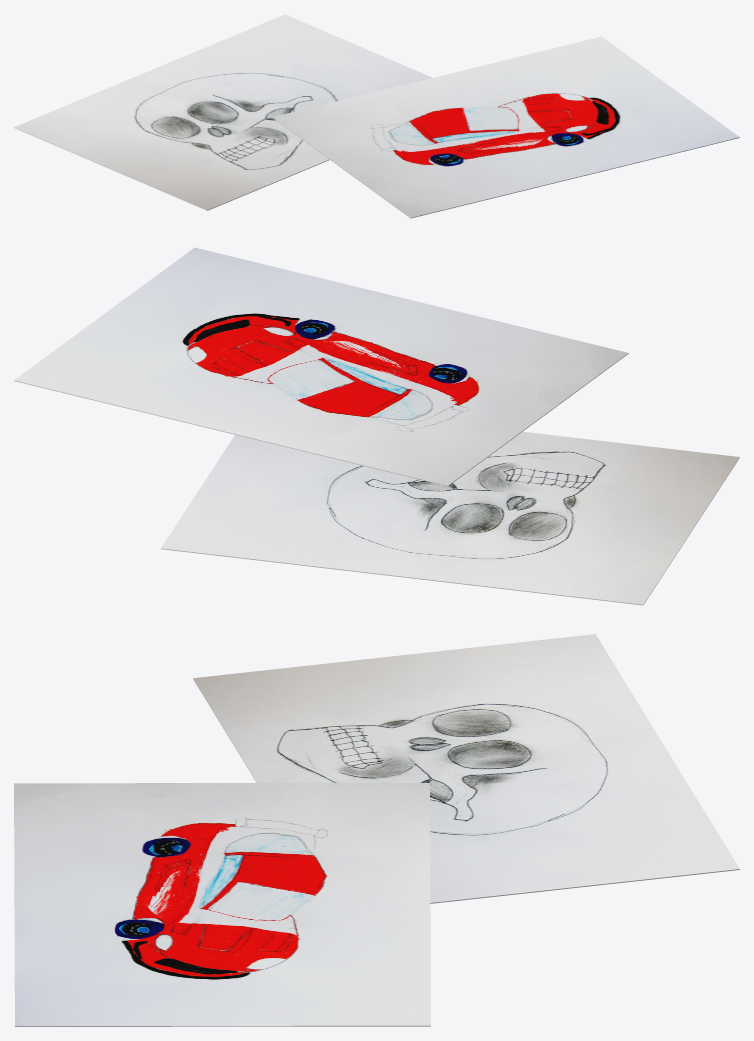
The model's file is Papers.FBX.
3 views of the same model, one above another, from view 1: azimuth 30°, elevation 25°; view 2: azimuth 150°, elevation 25°; view 3: azimuth 270°, elevation 25° (orthographic). The views are drawn at different scales.
Visible parts, largest first — view 1: papers; view 2: papers; view 3: papers.
Part boxes in pixels (x1,y1,x2,y2): papers: (14,14,739,218); papers: (14,247,739,605); papers: (14,634,739,1026).
Bounding box in the file's own units: 46.93 × 0.1034 × 36.65.
1 material, 1 textured.
